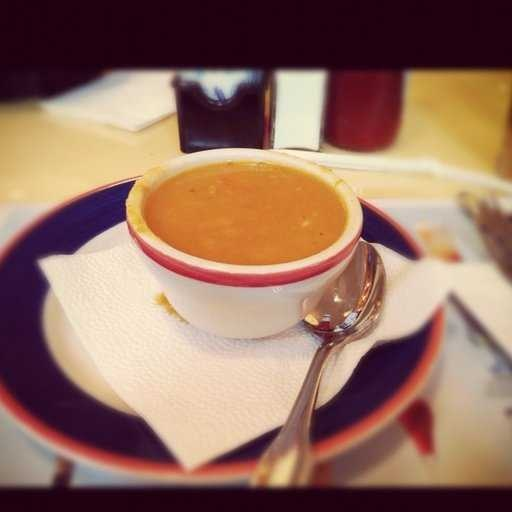soup: (129, 144, 372, 296)
